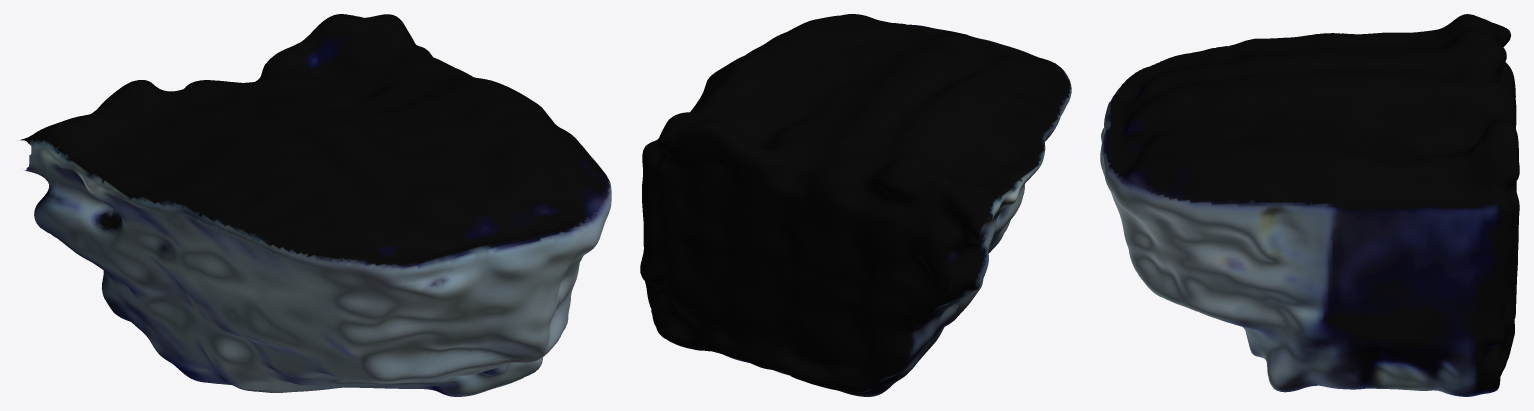
Rendered from backpack.glb.
The picture shows the model from 3 angles, left to right: view 1: azimuth 30°, elevation 25°; view 2: azimuth 150°, elevation 25°; view 3: azimuth 270°, elevation 25°; orthographic projection. The views are drawn at different scales.
Bounding box in the file's own units: 0.9998 × 0.673 × 0.9651.
